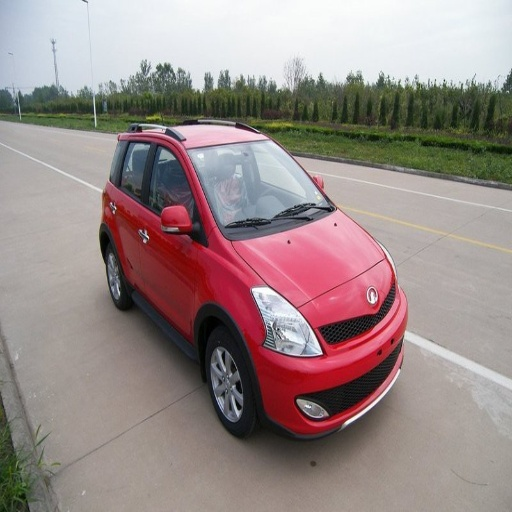front_bumper: (251, 304, 404, 438)
front_right_door: (144, 137, 200, 333)
front_right_light: (252, 287, 319, 356)
